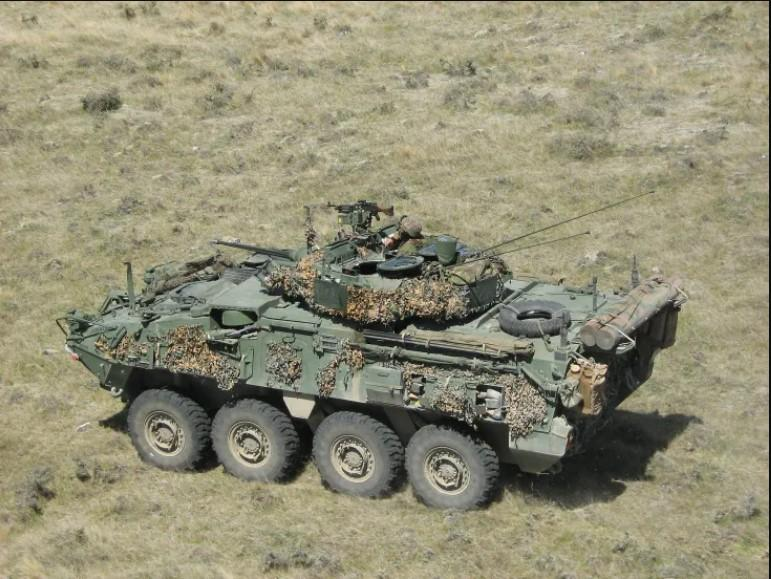armored_car: (65, 197, 690, 515)
